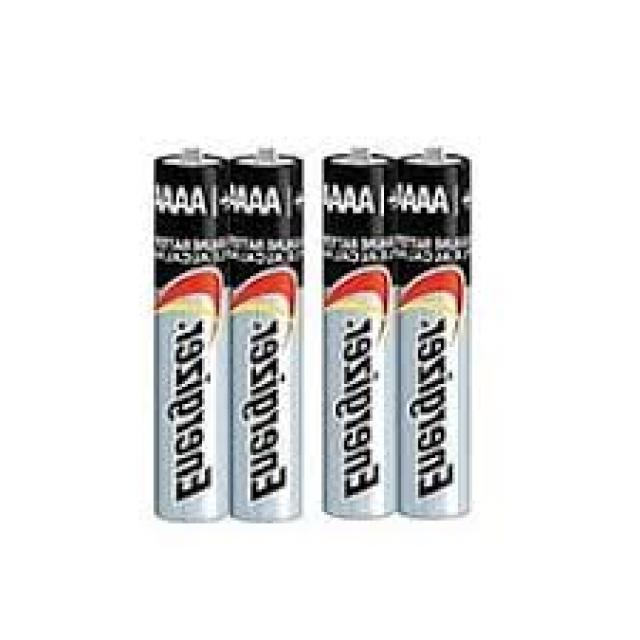battery: (392, 144, 476, 516), (148, 147, 225, 523), (318, 140, 394, 520), (229, 145, 304, 523)
